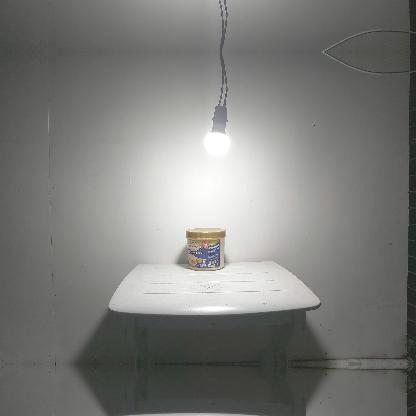Lady-s-Choice: (186, 228, 226, 270)
